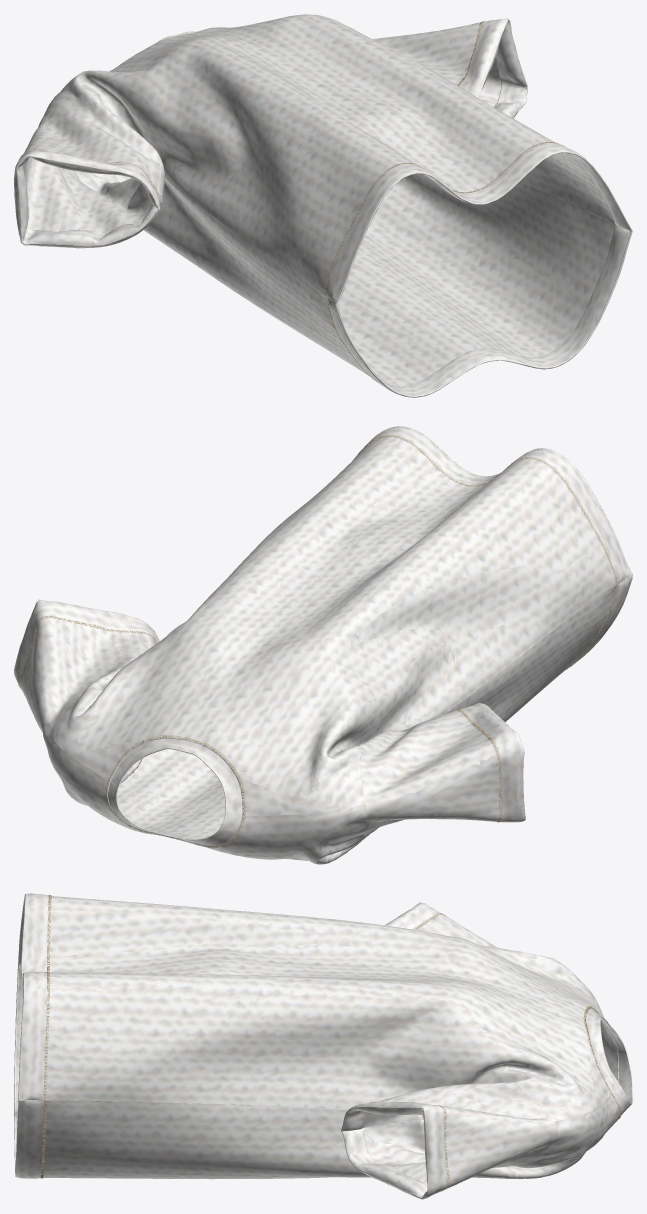
The model's file is new_shirt.obj.
3 renders of one model, top to bottom at view 1: azimuth 30°, elevation 25°; view 2: azimuth 150°, elevation 25°; view 3: azimuth 270°, elevation 25°, orthographic. The views are drawn at different scales.
Parts seen in each view (by area): view 1: 28.001; view 2: 28.001; view 3: 28.001.
Boxes of the visible parts, box(x1,y1,x2,y2) form: 28.001: box(14, 14, 632, 397); 28.001: box(14, 426, 632, 864); 28.001: box(14, 893, 632, 1199).
Size of the model in its own units: 3.03 by 1.28 by 3.34.
